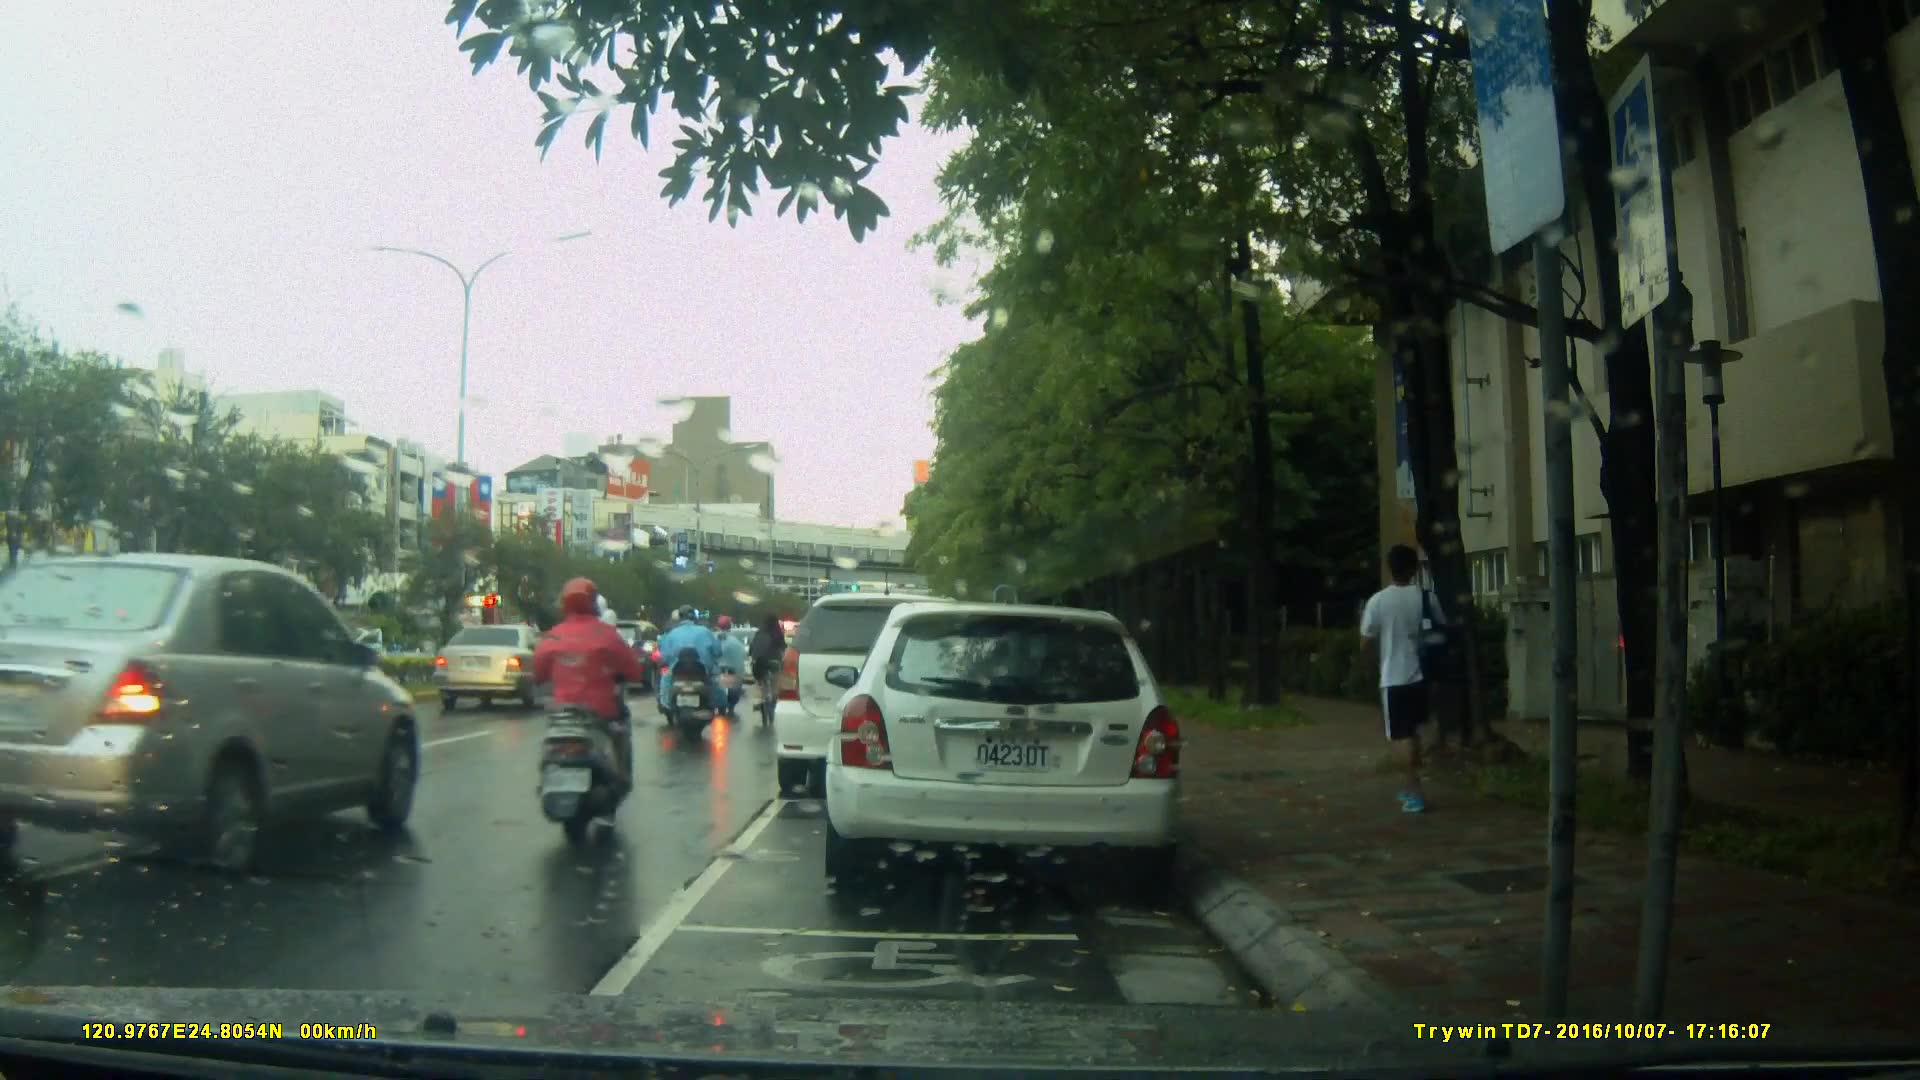pedestrian: (1364, 538, 1464, 836)
rider: (525, 578, 634, 846), (558, 607, 627, 782), (658, 607, 722, 746), (753, 608, 793, 738), (704, 611, 752, 714)
vehicle: (8, 550, 426, 897), (822, 604, 1188, 882), (774, 595, 995, 802), (433, 622, 571, 715)
